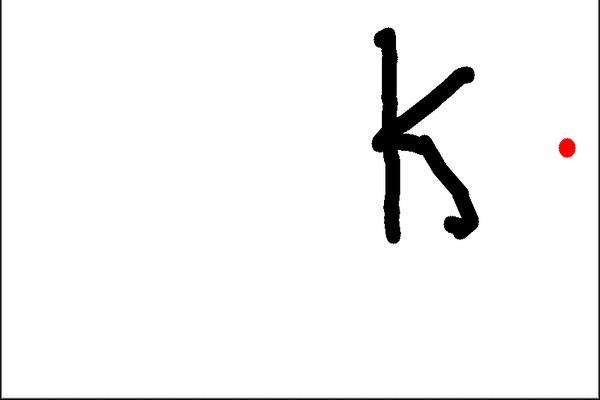K: (362, 22, 490, 248)
